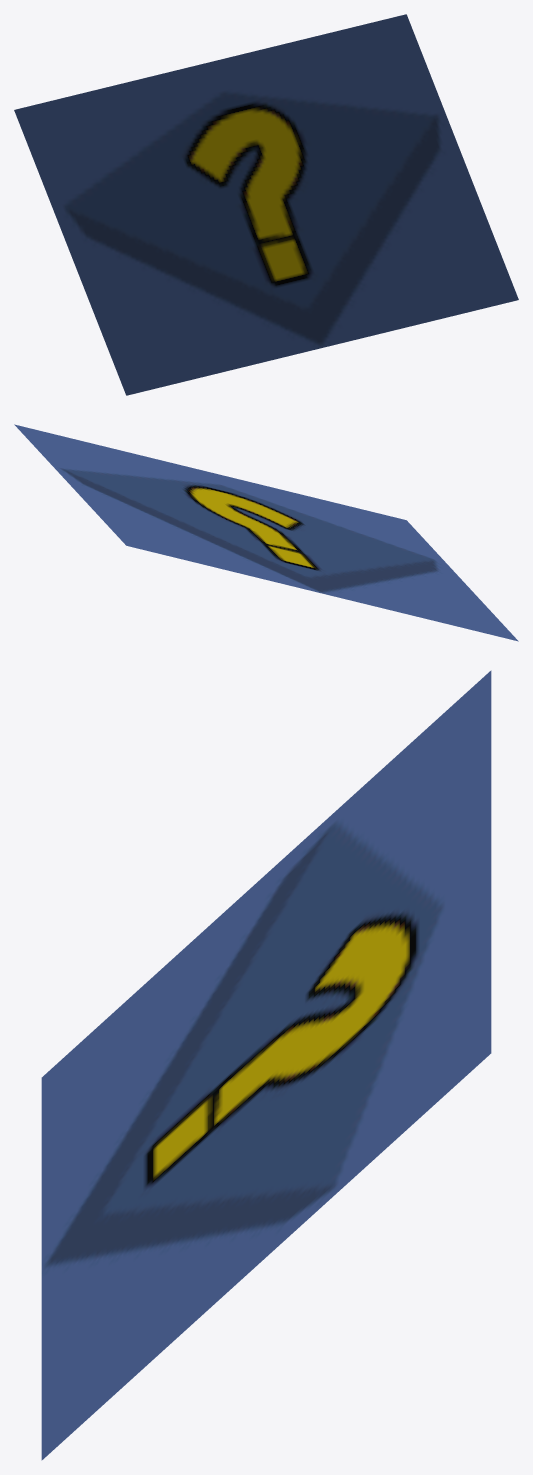
3 renders of one model, top to bottom at view 1: azimuth 30°, elevation 25°; view 2: azimuth 150°, elevation 25°; view 3: azimuth 270°, elevation 25°, orthographic. The views are drawn at different scales.
Parts seen in each view (by area): view 1: Joint_0_Object_0; view 2: Joint_0_Object_0; view 3: Joint_0_Object_0.
Boxes of the visible parts, x1=… form: Joint_0_Object_0: x1=14, y1=14, x2=518, y2=395; Joint_0_Object_0: x1=14, y1=424, x2=518, y2=641; Joint_0_Object_0: x1=41, y1=670, x2=491, y2=1460.
Bounding box in the file's own units: 241 × 120 × 120.
Materials: 1 (1 with a texture image).
